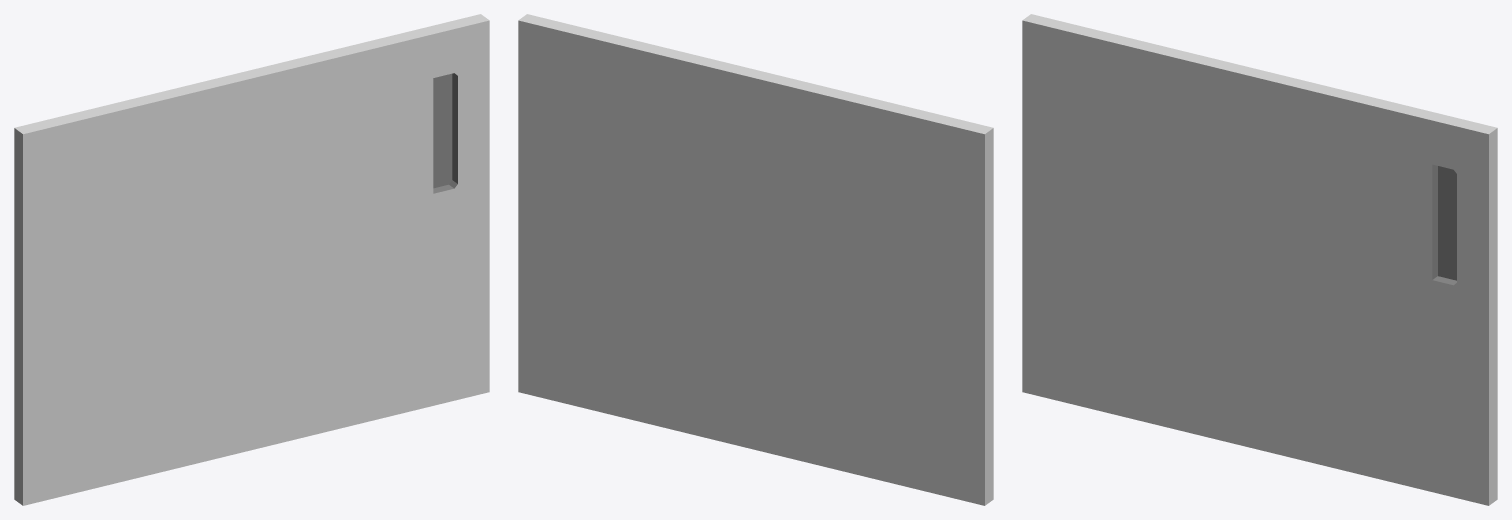
File: desk_drawer_2.glb
The picture shows the model from 3 angles, left to right: view 1: azimuth 30°, elevation 25°; view 2: azimuth 150°, elevation 25°; view 3: azimuth 330°, elevation 25°; orthographic projection.
Parts seen in each view (by area): view 1: Desk_Drawer_2; view 2: Desk_Drawer_2; view 3: Desk_Drawer_2.
Boxes of the visible parts, x1,y1,x2,y2 form: Desk_Drawer_2: (14,14,489,505); Desk_Drawer_2: (518,14,993,505); Desk_Drawer_2: (1022,14,1497,505).
Bounding box in the file's own units: 0.9362 × 0.7126 × 0.0307.
Materials: 1 (1 with a texture image).
